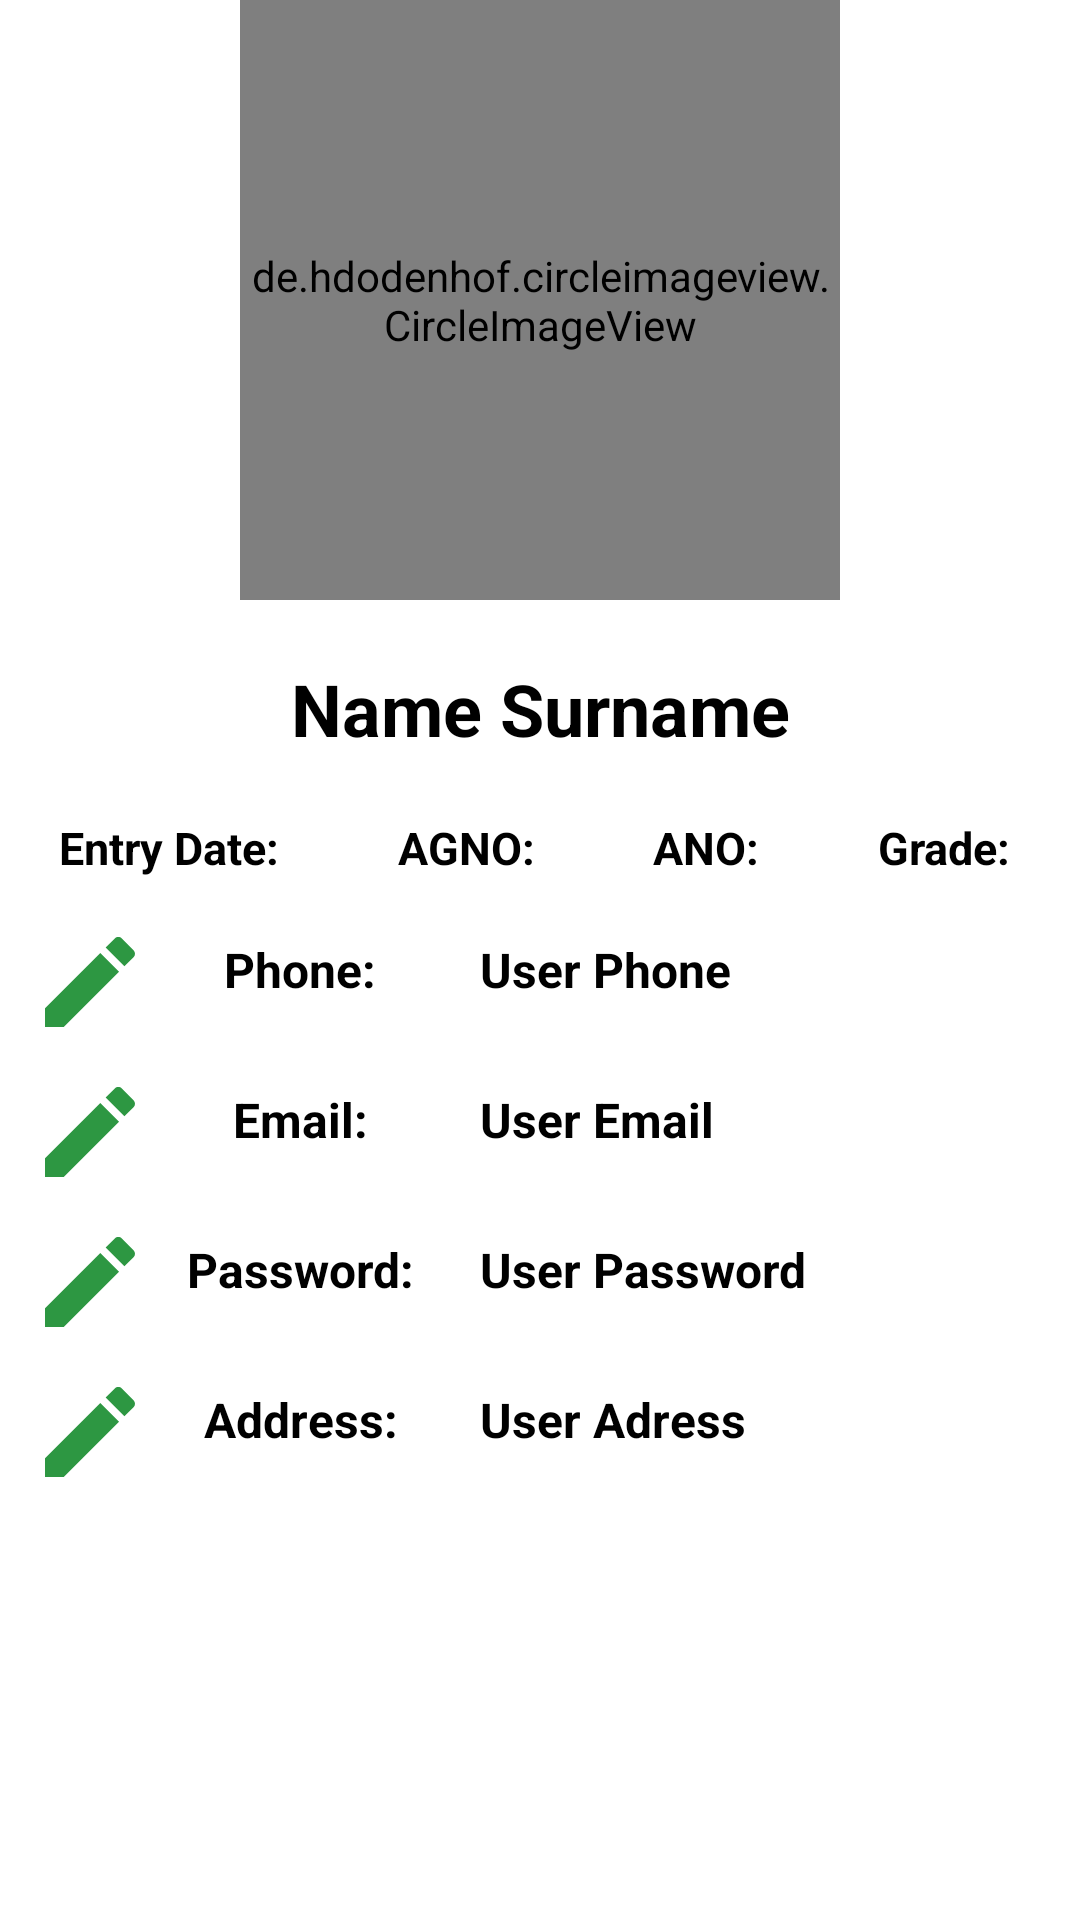

Screen size 1080w x 1920h. Icon name, then its center in pixels as point (x, y):
edit: point (90, 982), point (90, 1132), point (90, 1282), point (90, 1432)
